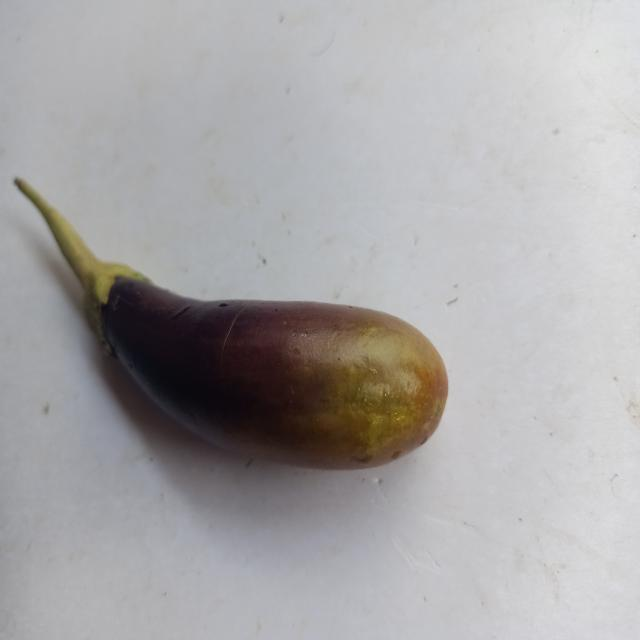Brinjal: (5, 144, 493, 542)
